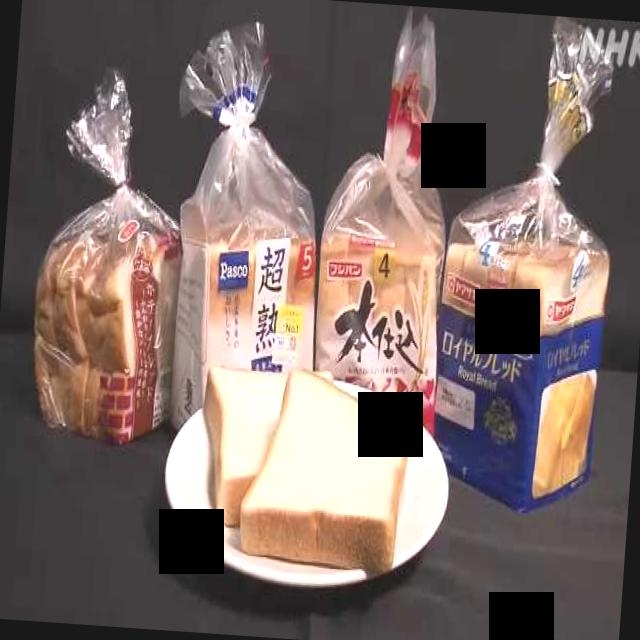bread: (432, 25, 612, 515), (165, 24, 314, 428), (312, 11, 446, 437), (30, 81, 183, 447)
